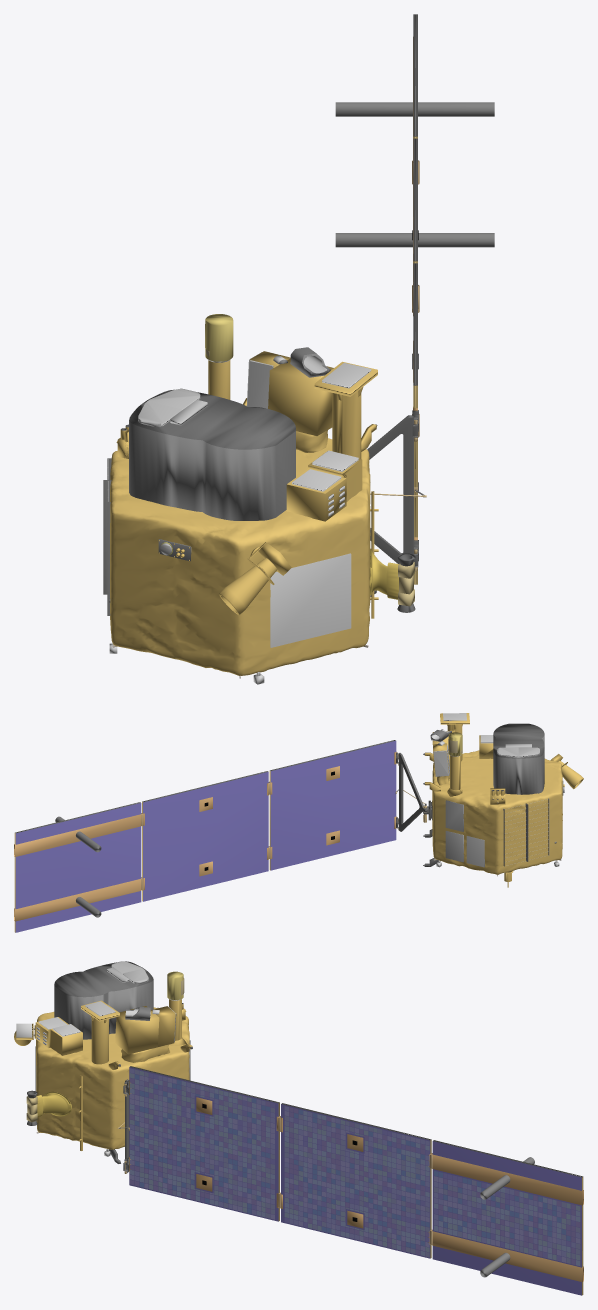
File: sentinel_2.glb
3 renders of one model, top to bottom at view 1: azimuth 30°, elevation 25°; view 2: azimuth 150°, elevation 25°; view 3: azimuth 270°, elevation 25°, orthographic. The views are drawn at different scales.
Visible parts, largest first — view 1: node_id27 (×3), node_id66 (×2), node_id77 (×4), node_id44 (×4), node_id5 (×3), node_id36, node_id87, node_id62; view 2: node_id5 (×6), node_id27 (×3), node_id66 (×2), node_id77 (×4), node_id44 (×2), node_id62; view 3: node_id5 (×13), node_id27 (×4), node_id66 (×2), node_id44 (×4), node_id77 (×2), node_id87.
Boxes of the visible parts, box(x1,y1,x2,y2) form: node_id27 (×3): box(111, 438, 368, 675); node_id66 (×2): box(129, 389, 295, 520); node_id77 (×4): box(109, 352, 370, 684); node_id44 (×4): box(219, 370, 362, 615); node_id5 (×3): box(335, 14, 494, 563); node_id36: box(205, 314, 233, 361); node_id87: box(369, 548, 398, 599); node_id62: box(103, 458, 111, 615); node_id5 (×6): box(14, 740, 426, 932); node_id27 (×3): box(433, 750, 561, 874); node_id66 (×2): box(493, 723, 544, 794); node_id77 (×4): box(433, 744, 539, 867); node_id44 (×2): box(447, 754, 583, 796); node_id62: box(503, 798, 549, 866); node_id5 (×13): box(129, 1066, 583, 1295); node_id27 (×4): box(37, 1007, 188, 1149); node_id66 (×2): box(54, 961, 153, 1039); node_id44 (×4): box(35, 1013, 175, 1064); node_id77 (×2): box(36, 961, 148, 1156); node_id87: box(37, 1091, 71, 1116).
Size of the model in its own units: 0.00512 by 0.00201 by 0.00606.
